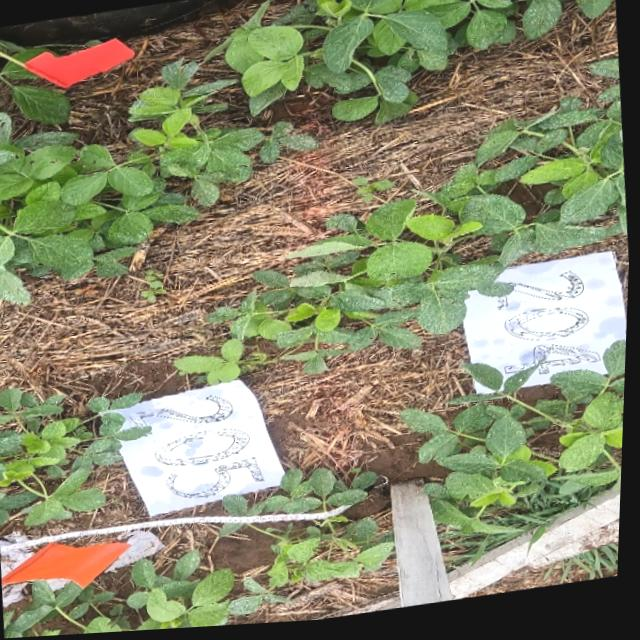caruru_weed: (434, 489, 610, 570), (564, 549, 623, 591), (354, 181, 395, 206), (142, 270, 166, 305)
soy_plant: (0, 0, 612, 303), (179, 102, 628, 388), (7, 520, 397, 639), (405, 353, 629, 546), (0, 389, 148, 524), (226, 472, 382, 519)
